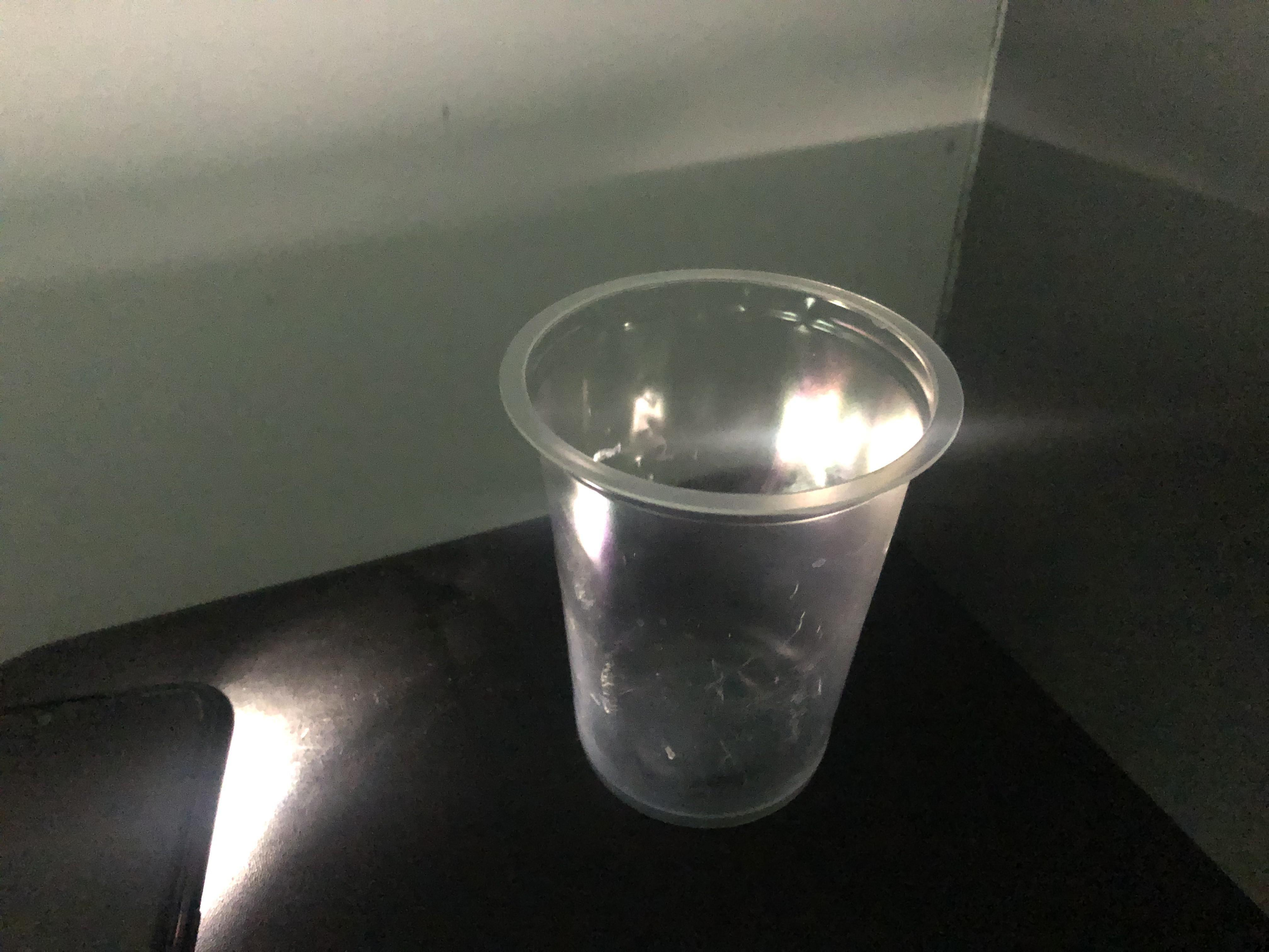cup-disposable: (492, 262, 968, 828)
